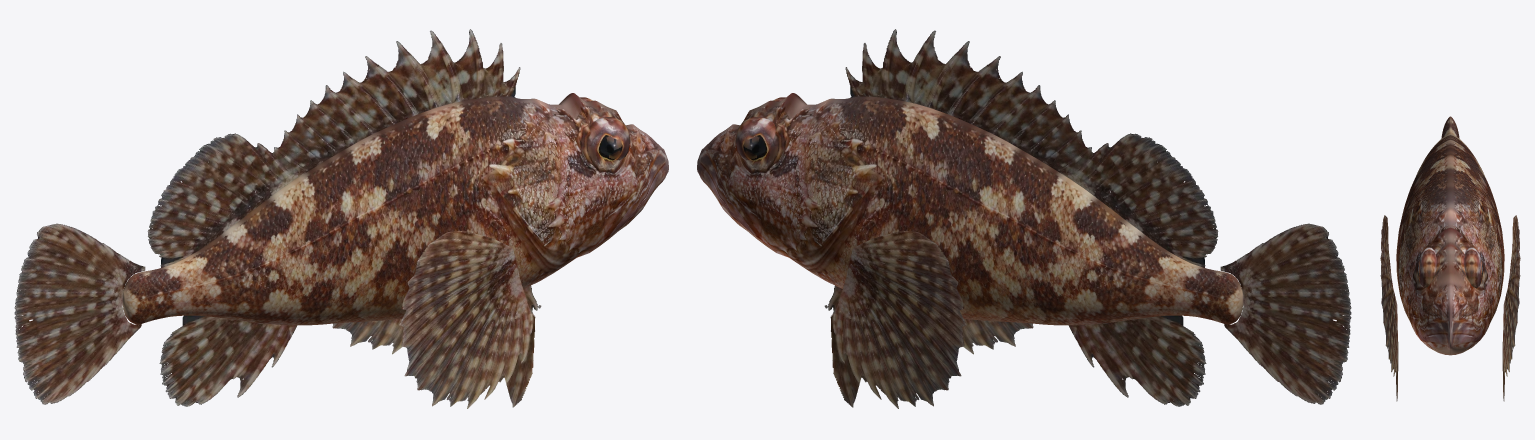
The model's file is scorpion.glb.
3 renders of one model, left to right at view 1: azimuth 30°, elevation 25°; view 2: azimuth 150°, elevation 25°; view 3: azimuth 270°, elevation 25°, orthographic. The views are drawn at different scales.
Bounding box in the file's own units: 1 × 0.5335 × 0.2345.
Materials: 1 (1 with a texture image).
